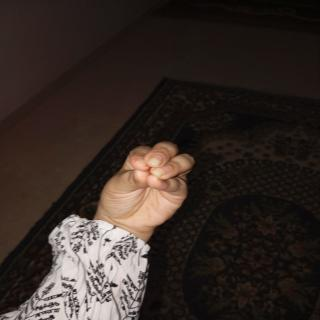HA: (88, 135, 218, 243)
